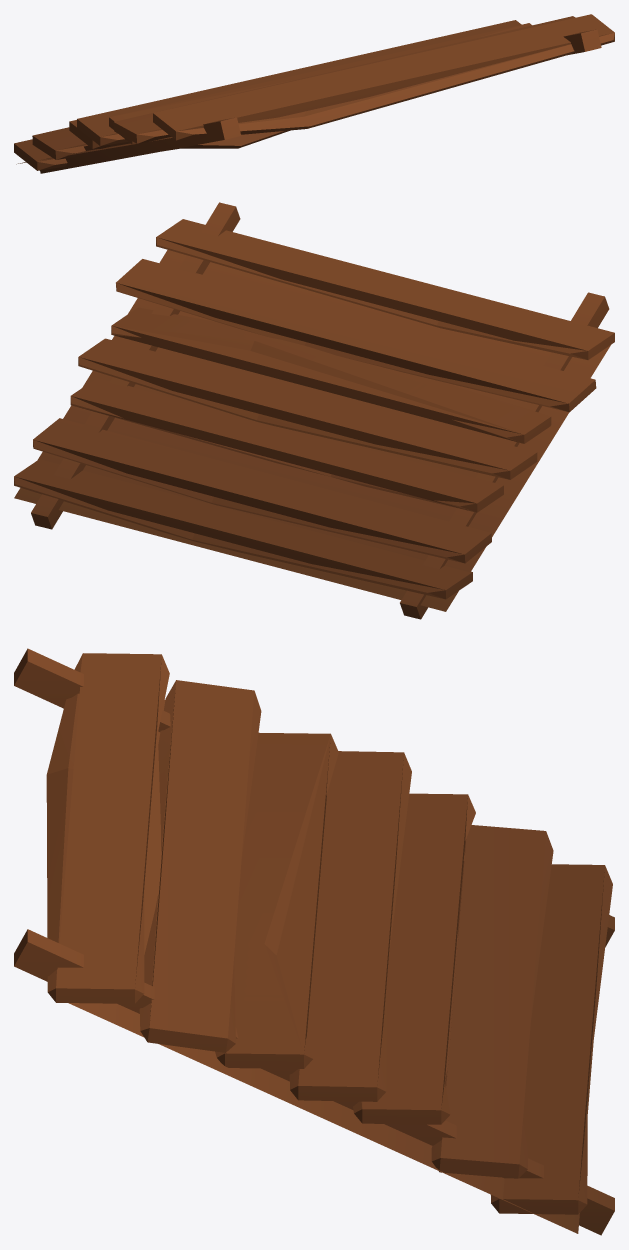
File: Dock Stairs 01.fbx
3 views of the same model, one above another, from view 1: azimuth 30°, elevation 25°; view 2: azimuth 150°, elevation 25°; view 3: azimuth 270°, elevation 25° (orthographic). The views are drawn at different scales.
Parts seen in each view (by area): view 1: Dock Stairs 01, Dock Stairs 01 high; view 2: Dock Stairs 01, Dock Stairs 01 high, Dock Stairs 01 low; view 3: Dock Stairs 01, Dock Stairs 01 high, Dock Stairs 01 low.
Boxes of the visible parts, box(x1,y1,x2,y2) form: Dock Stairs 01: box(14, 14, 614, 161); Dock Stairs 01 high: box(14, 23, 614, 173); Dock Stairs 01: box(14, 219, 614, 589); Dock Stairs 01 high: box(14, 202, 614, 619); Dock Stairs 01 low: box(14, 250, 611, 611); Dock Stairs 01: box(56, 653, 604, 1200); Dock Stairs 01 high: box(14, 648, 614, 1235); Dock Stairs 01 low: box(68, 700, 593, 1233).
Bounding box in the file's own units: 3.9 × 1.52 × 2.81.
Materials: 1 (1 with a texture image).
